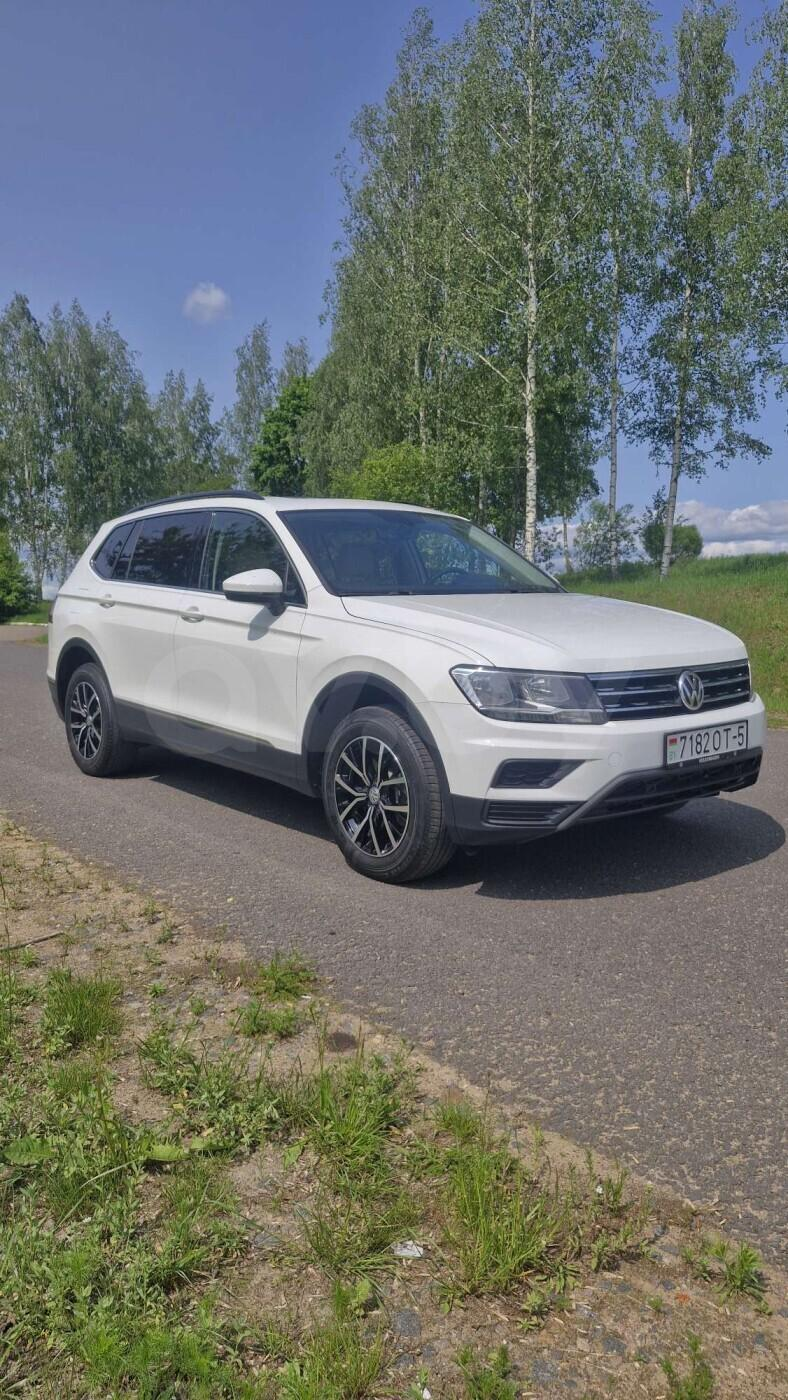Tiguan_2016-2021: (40, 490, 772, 880)
